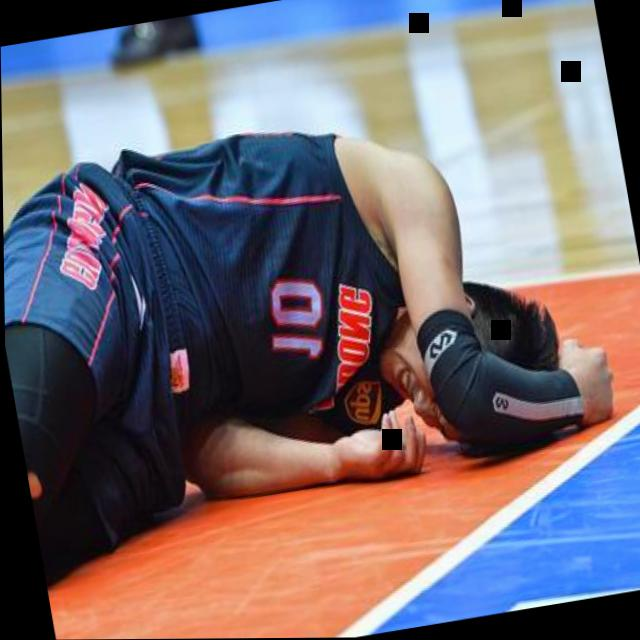Fall-Detected: (1, 60, 612, 552)
